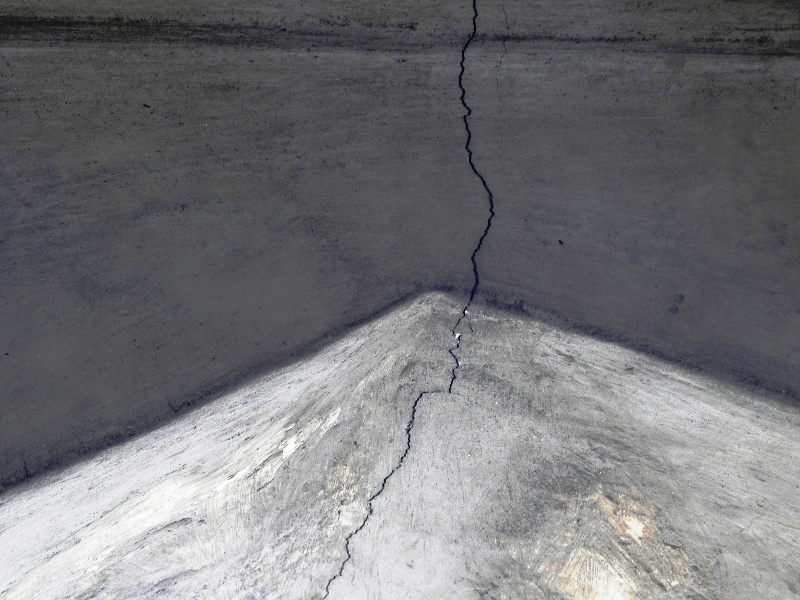Crack: (318, 305, 494, 598), (441, 3, 508, 298)
